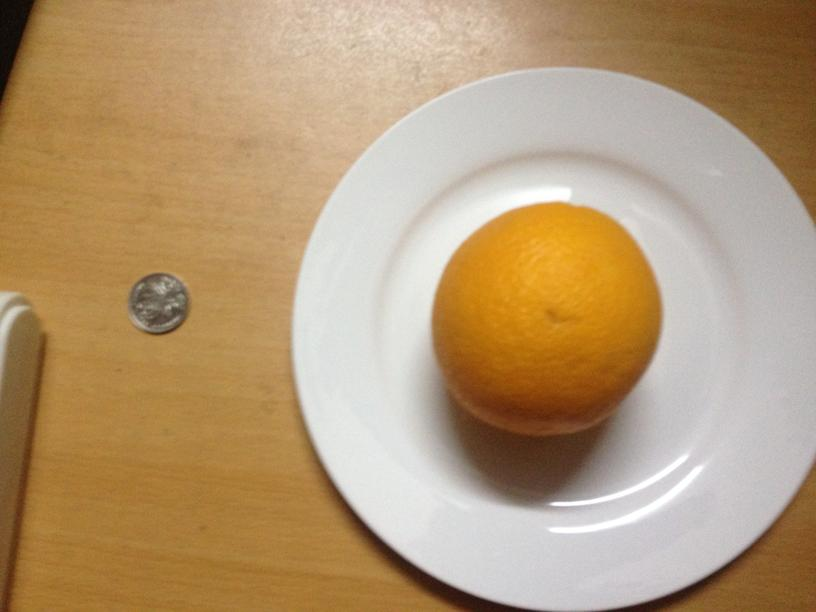coin: (126, 271, 189, 334)
orange: (431, 199, 661, 439)
